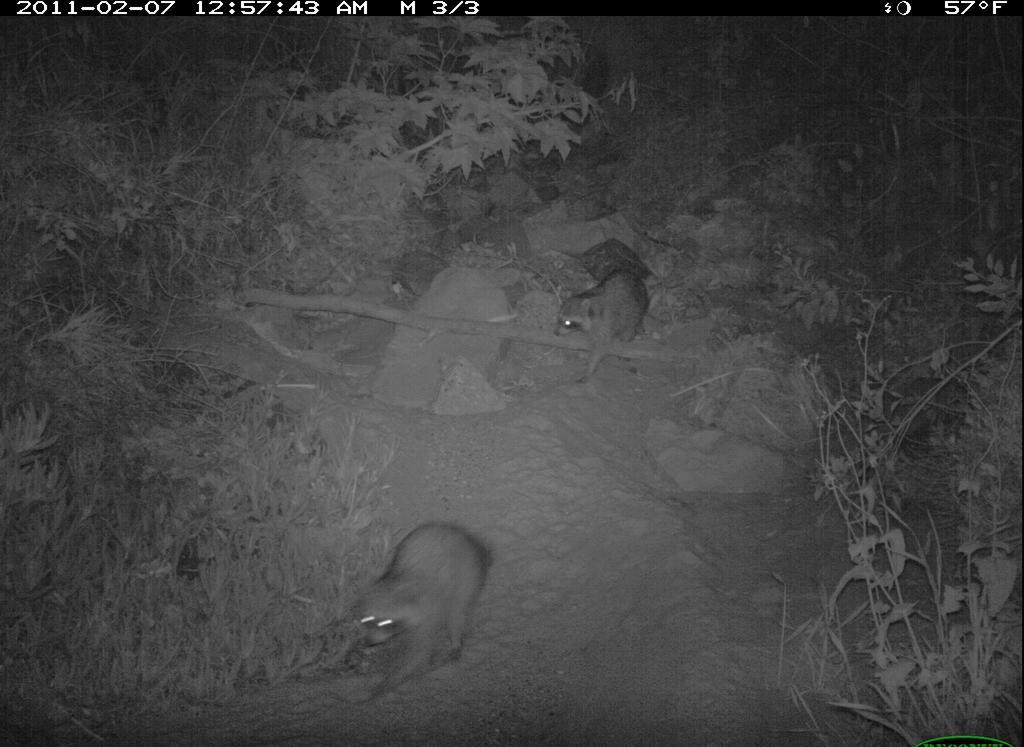raccoon: (336, 511, 501, 713), (547, 257, 662, 386)
